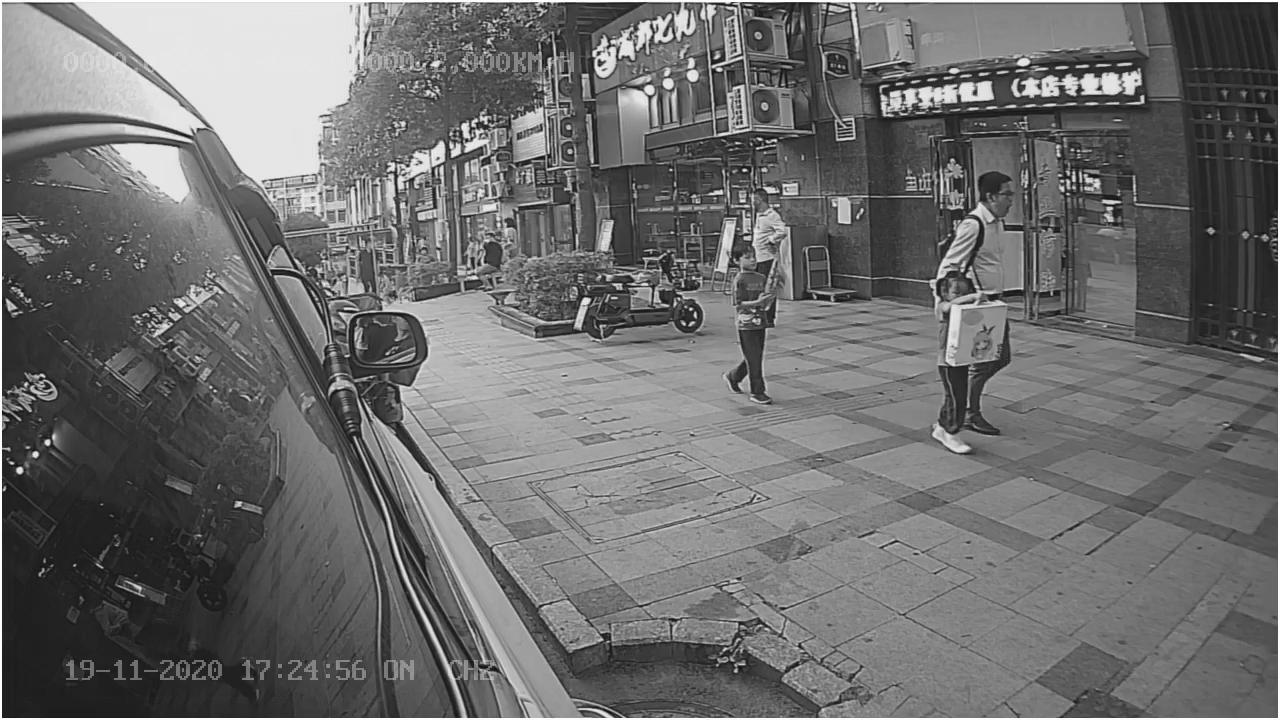person: (723, 239, 773, 404), (951, 165, 1022, 278)
